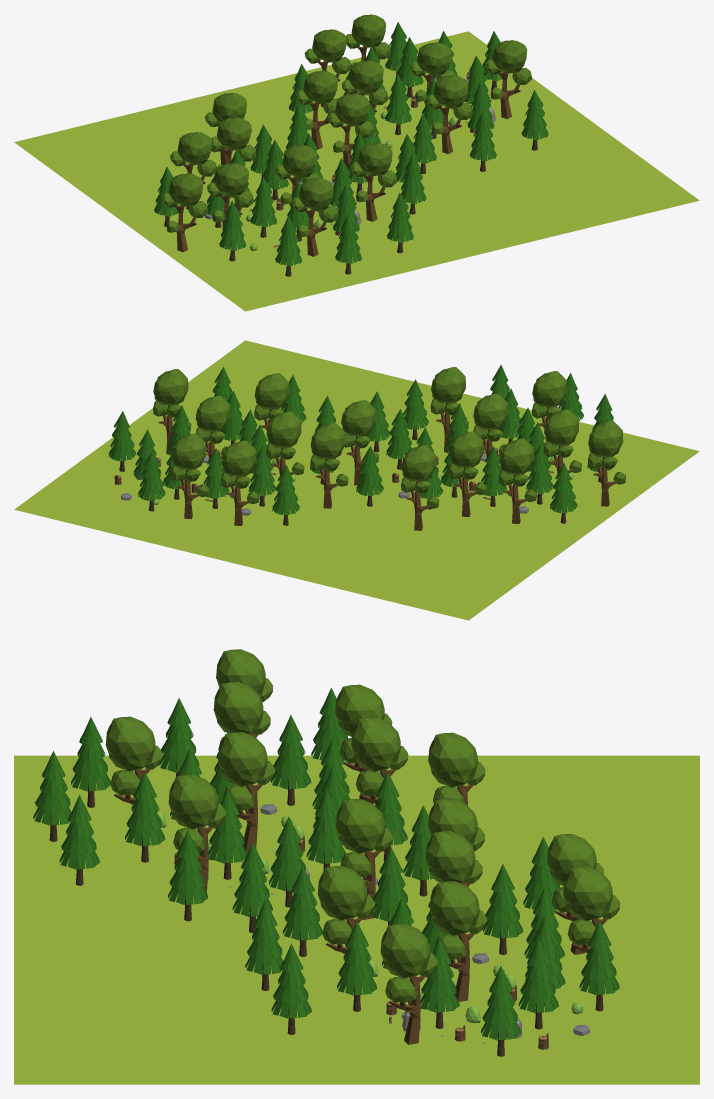
File: forest.gltf
The picture shows the model from 3 angles, top to bottom: view 1: azimuth 30°, elevation 25°; view 2: azimuth 150°, elevation 25°; view 3: azimuth 270°, elevation 25°; orthographic projection. The views are drawn at different scales.
Visible parts, largest first — view 1: Plane, Tree1.016, Tree1.007, Tree1.010, Tree1.001, Tree1.008, Tree1, Tree1.017, Tree1.002, Tree1.004, Tree1.013, Tree1.005 (+29 smaller); view 2: Plane, Tree1.005, Tree1.004, Tree1.014, Tree1.017, Tree1.003, Tree1.008, Tree1.013, Tree1, Tree1.011, Tree1.002, Tree1.016 (+24 smaller); view 3: Plane, Tree1.016, Tree1.015, Tree1.006, Tree1, Tree1.007, Tree1.010, Tree1.001, Tree1.014, Tree1.005, Tree1.003, Tree1.011 (+33 smaller).
Boxes of the visible parts, box(x1,y1,x2,y2) form: Plane: box(14, 31, 699, 311); Tree1.016: box(485, 40, 531, 119); Tree1.007: box(350, 142, 397, 221); Tree1.010: box(426, 75, 473, 154); Tree1.001: box(291, 177, 338, 256); Tree1.008: box(161, 173, 208, 252); Tree1: box(327, 93, 374, 170); Tree1.017: box(296, 70, 337, 149); Tree1.002: box(207, 163, 253, 236); Tree1.004: box(170, 132, 216, 209); Tree1.013: box(304, 29, 351, 106); Tree1.005: box(211, 117, 256, 168); Plane: box(14, 340, 699, 620); Tree1.005: box(448, 431, 486, 516); Tree1.004: box(498, 438, 536, 523); Tree1.014: box(171, 433, 209, 519); Tree1.017: box(310, 423, 348, 508); Tree1.003: box(401, 445, 439, 530); Tree1.008: box(588, 421, 625, 506); Tree1.013: box(221, 440, 259, 525); Tree1: box(341, 400, 378, 485); Tree1.011: box(266, 411, 304, 479); Tree1.002: box(543, 409, 581, 473); Tree1.016: box(153, 369, 191, 454); Plane: box(14, 755, 699, 1084); Tree1.016: box(380, 923, 437, 1044); Tree1.015: box(430, 881, 486, 1001); Tree1.006: box(218, 732, 274, 852); Tree1: box(335, 799, 392, 919); Tree1.007: box(168, 774, 225, 892); Tree1.010: box(317, 866, 374, 986); Tree1.001: box(105, 716, 162, 837); Tree1.014: box(563, 866, 619, 952); Tree1.005: box(351, 717, 408, 803); Tree1.003: box(428, 732, 485, 805); Tree1.011: box(425, 831, 482, 936).
Bounding box in the file's own units: 142 × 24.54 × 125.
